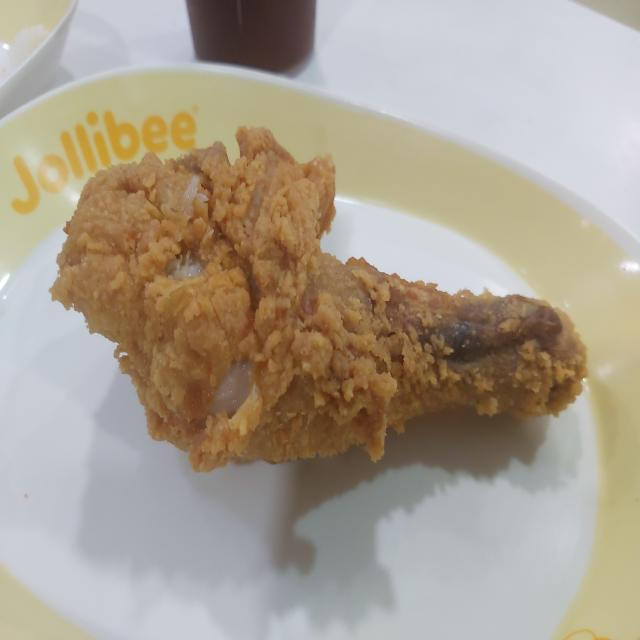Chicken -Fried Chicken-: (65, 104, 554, 492)
